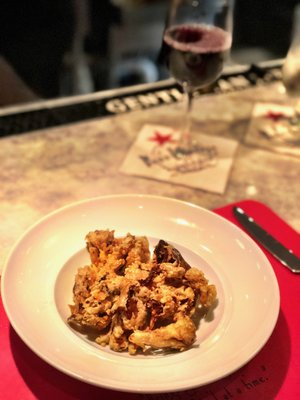sandwich: (233, 207, 300, 275)
